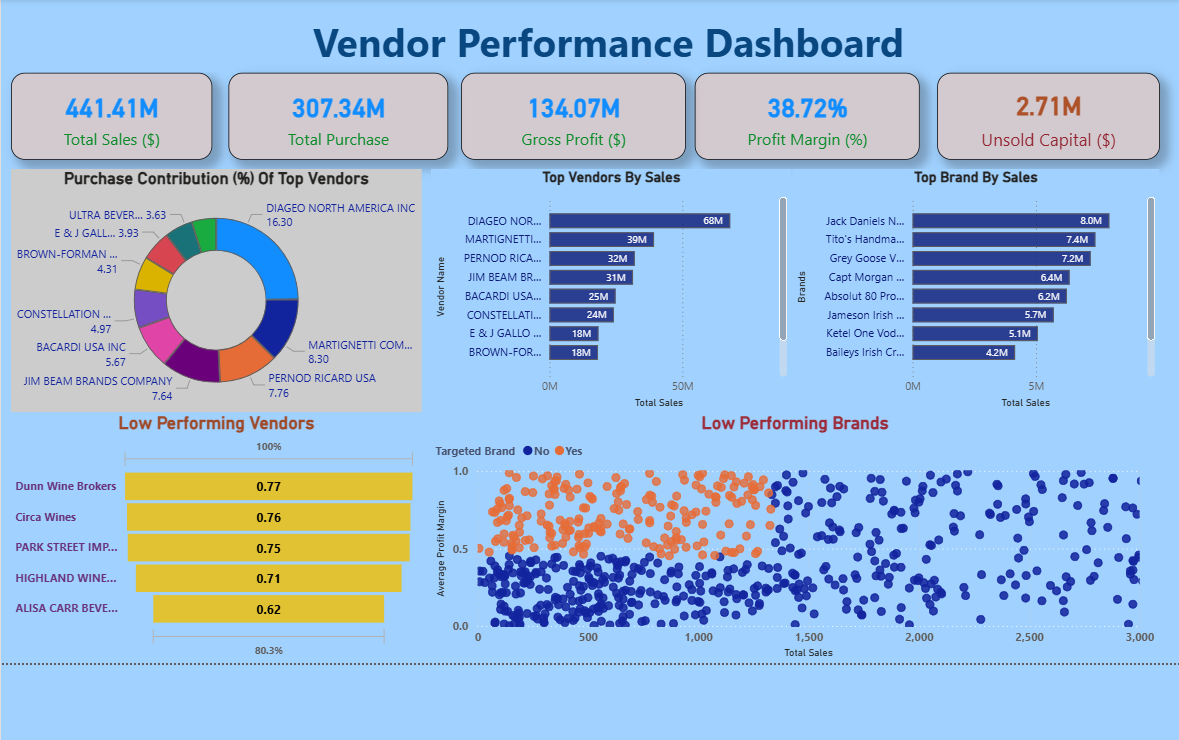

This screenshot's page, from the dashboard's own definition file:
{"tool":"powerbi","page":{"name":"Page 1","canvas":[1280,720],"ordinal":0},"visuals":[{"type":"card","fields":{"Values":["Sheet1.Total_Sales_Dollar"]},"box":[11.4,80,218.6,94.3],"z":0},{"type":"textbox","box":[11,12.3,1257,67.2],"z":1000},{"type":"card","fields":{"Values":["Sheet1.Total_Purchase_Dollar"]},"box":[247.1,80,238.6,94.3],"z":2000},{"type":"card","fields":{"Values":["Sheet1.Gross_Profit"]},"box":[498.6,80,244.3,94.3],"z":3000},{"type":"card","fields":{"Values":["Sheet1.Profit_Margin"]},"box":[752.9,80,244.3,94.3],"z":4000},{"type":"card","fields":{"Values":["Sheet1.Unsold_Inventory_Value"]},"box":[1015.7,80,241.4,94.3],"z":5000},{"type":"donutChart","title":"Purchase Contribution (%) Of Top Vendors ","fields":{"Y":["Purchase Contribuition.Purchase Contribution (%)"],"Category":["Purchase Contribuition.VendorName"]},"box":[11.4,184.3,445.7,264.3],"z":6000},{"type":"barChart","title":"Top Vendors By Sales","fields":{"Category":["Vendor Sale Summary.VendorName"],"Y":["Vendor Sale Summary.Total_Sales_Dollar"]},"box":[467.1,184.3,391.4,264.3],"z":7000},{"type":"barChart","title":"Top Brand By Sales","fields":{"Category":["Vendor Sale Summary.Description"],"Y":["Vendor Sale Summary.Total_Sales_Dollar"]},"box":[858.6,184.3,398.6,264.3],"z":8000},{"type":"funnel","title":"Low Performing Vendors","fields":{"Category":["Low Performing Vendors.VendorName"],"Y":["Low Performing Vendors.AverageStockTurnover"]},"box":[11.4,448.6,445.7,271.4],"z":9000},{"type":"scatterChart","title":"Low Performing Brands","fields":{"Category":["BrandPerformace.Description"],"X":["BrandPerformace.TotalSales"],"Y":["BrandPerformace.AverageProfitMargin"],"Series":["BrandPerformace.TargetedBrand"]},"box":[467.1,448.6,790,271.4],"z":10000}]}

Visuals, with their boxes on the page's 1280x720 design canvas (x1, y1, x2, y2). These are canvas units, not pixel positions in the 1179x740 screenshot, which may show the page scaled, cropped or inside an application window:
card - Sheet1.Total_Sales_Dollar: 11:80:230:174
textbox: 11:12:1268:80
card - Sheet1.Total_Purchase_Dollar: 247:80:486:174
card - Sheet1.Gross_Profit: 499:80:743:174
card - Sheet1.Profit_Margin: 753:80:997:174
card - Sheet1.Unsold_Inventory_Value: 1016:80:1257:174
"Purchase Contribution (%) Of Top Vendors " donutChart: 11:184:457:449
"Top Vendors By Sales" barChart: 467:184:858:449
"Top Brand By Sales" barChart: 859:184:1257:449
"Low Performing Vendors" funnel: 11:449:457:720
"Low Performing Brands" scatterChart: 467:449:1257:720
